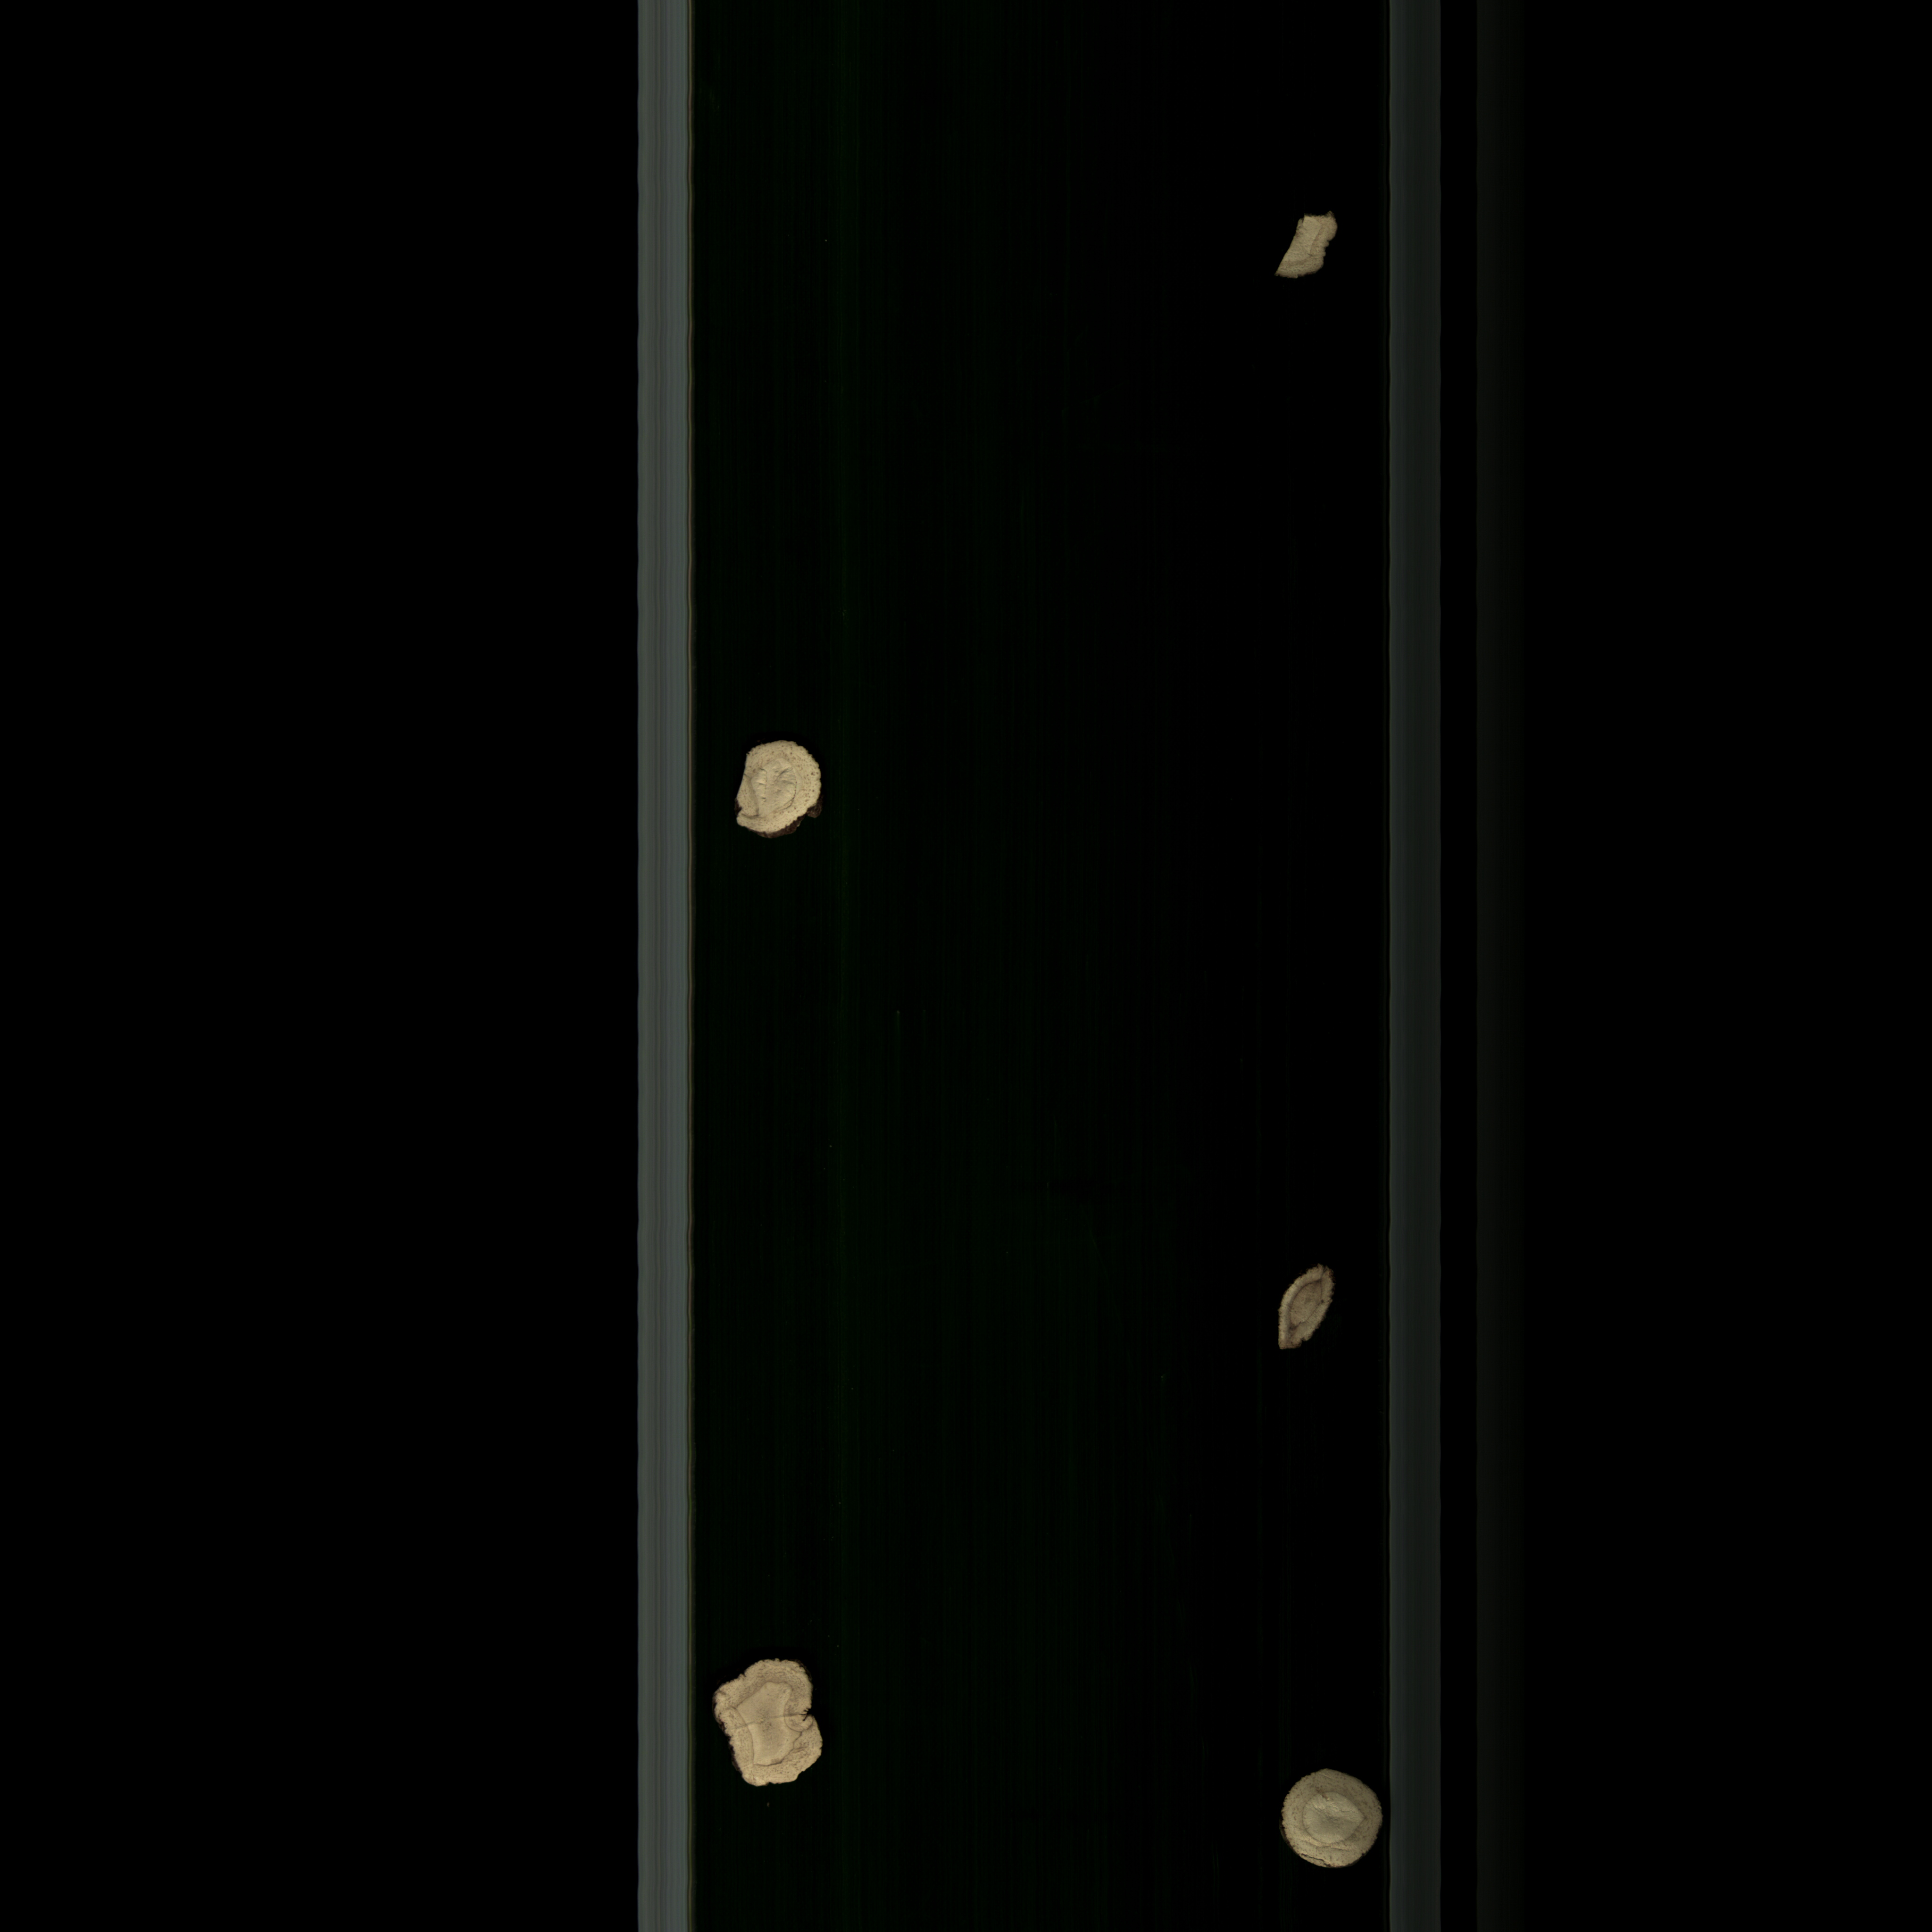debris: (724, 736, 837, 849)
distortion: (706, 1649, 830, 1798)
dreg: (1277, 209, 1353, 295)
moldy: (1272, 1254, 1345, 1364)
